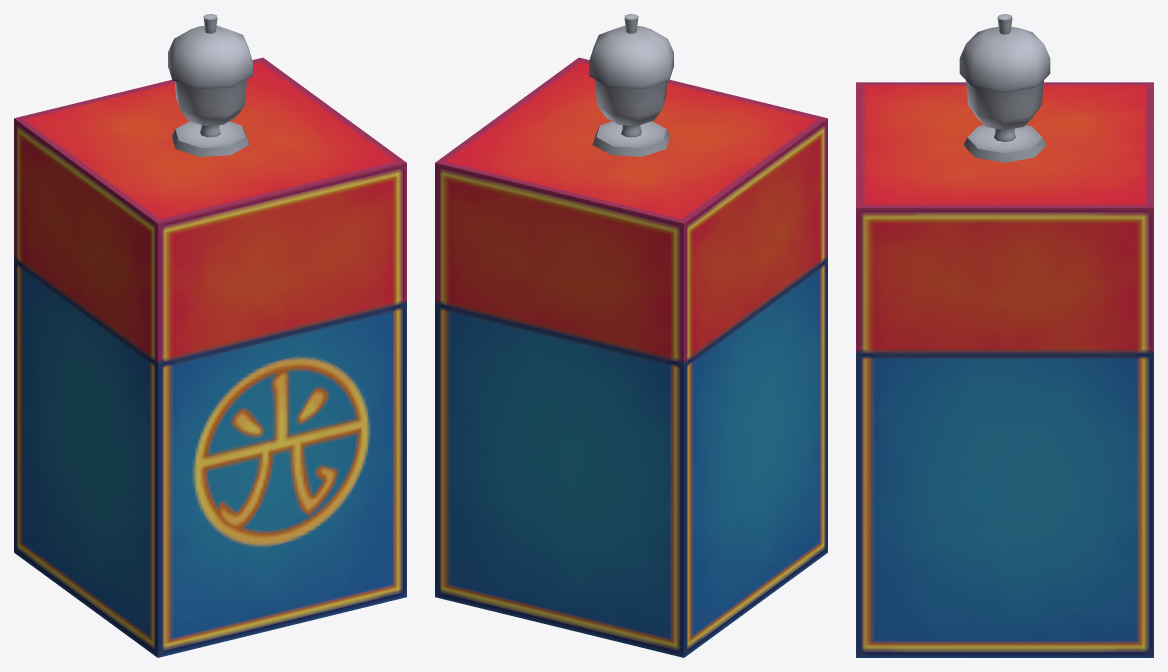
Rendered from Lamp.FBX.
The picture shows the model from 3 angles, left to right: view 1: azimuth 30°, elevation 25°; view 2: azimuth 150°, elevation 25°; view 3: azimuth 270°, elevation 25°; orthographic projection. The views are drawn at different scales.
Parts seen in each view (by area): view 1: Box009; view 2: Box009; view 3: Box009.
Part boxes in pixels (x1=…): Box009: x1=14, y1=14, x2=406, y2=657; Box009: x1=435, y1=14, x2=827, y2=657; Box009: x1=856, y1=14, x2=1153, y2=657.
Size of the model in its own units: 60 by 128 by 60.
